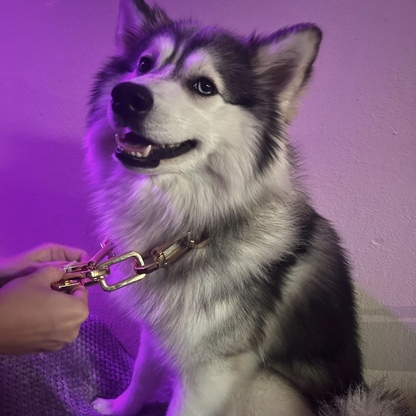husky: (76, 1, 408, 416)
